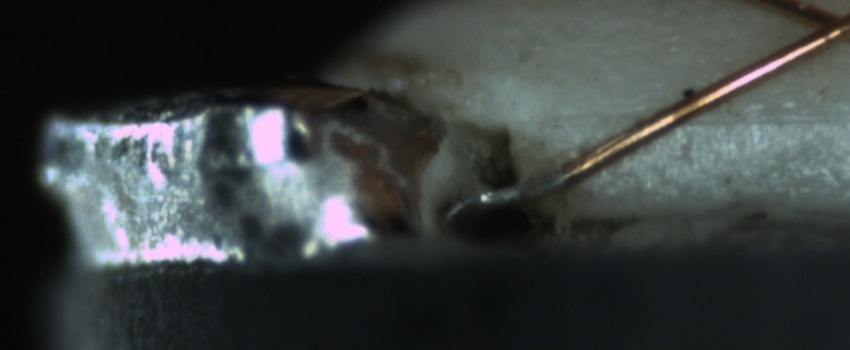CL: (781, 1, 848, 57)
DL: (567, 85, 847, 147)
TS: (459, 166, 569, 212)
